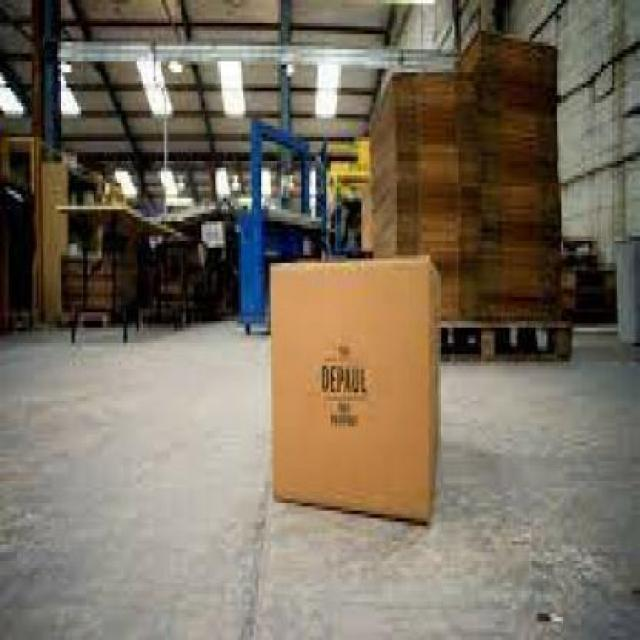box: (262, 244, 467, 553)
